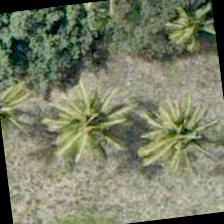Kelapa_Sawit: (40, 74, 140, 174), (130, 89, 223, 190), (142, 0, 221, 82)
